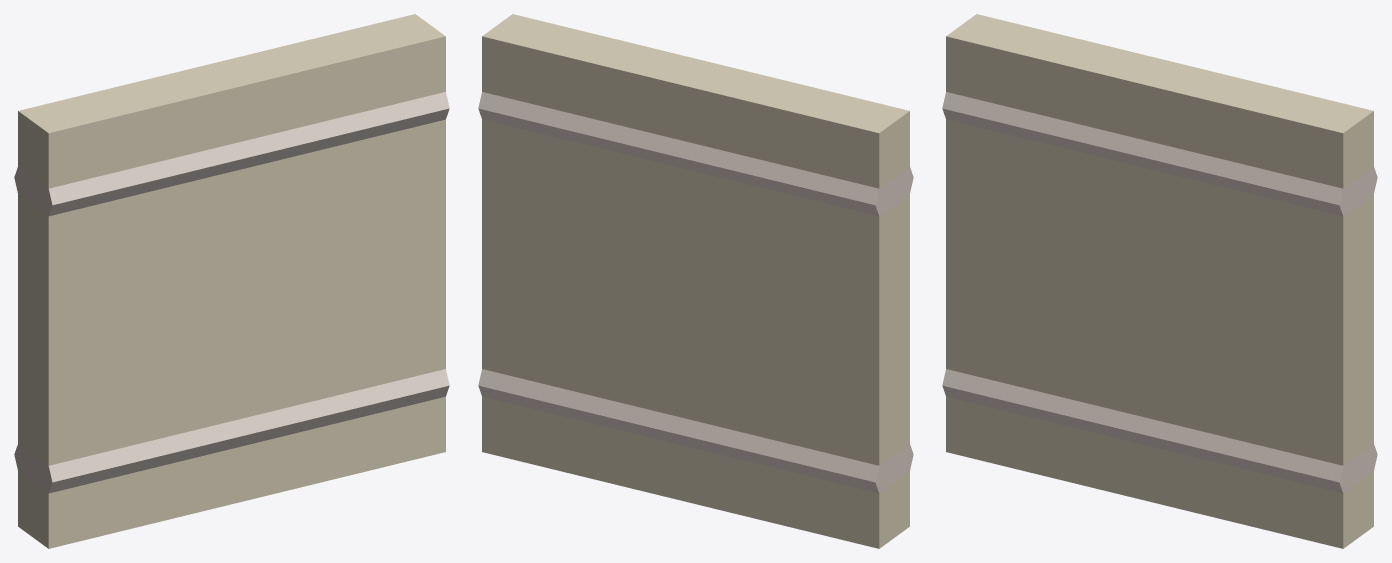
File: roman_wall_1.fbx
3 renders of one model, left to right at view 1: azimuth 30°, elevation 25°; view 2: azimuth 150°, elevation 25°; view 3: azimuth 330°, elevation 25°, orthographic.
Parts seen in each view (by area): view 1: Cube.011; view 2: Cube.011; view 3: Cube.011.
Boxes of the visible parts, x1,y1,x2,y2 form: Cube.011: [14, 14, 449, 548]; Cube.011: [478, 14, 913, 548]; Cube.011: [942, 14, 1377, 548].
Size of the model in its own units: 3 by 3 by 0.5.
